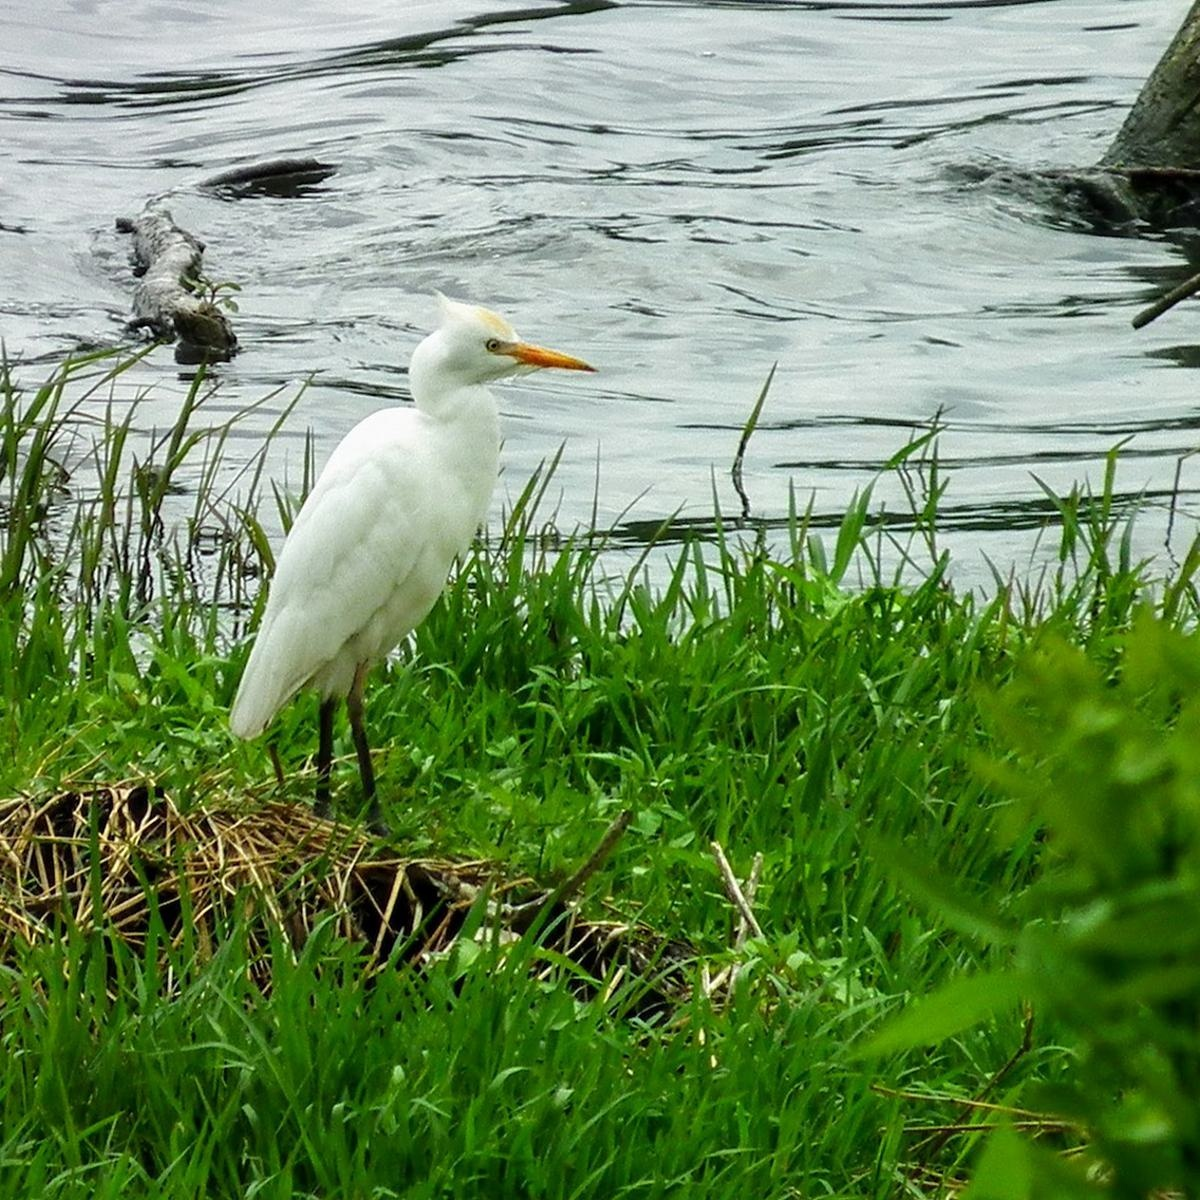egret: (243, 296, 605, 825)
